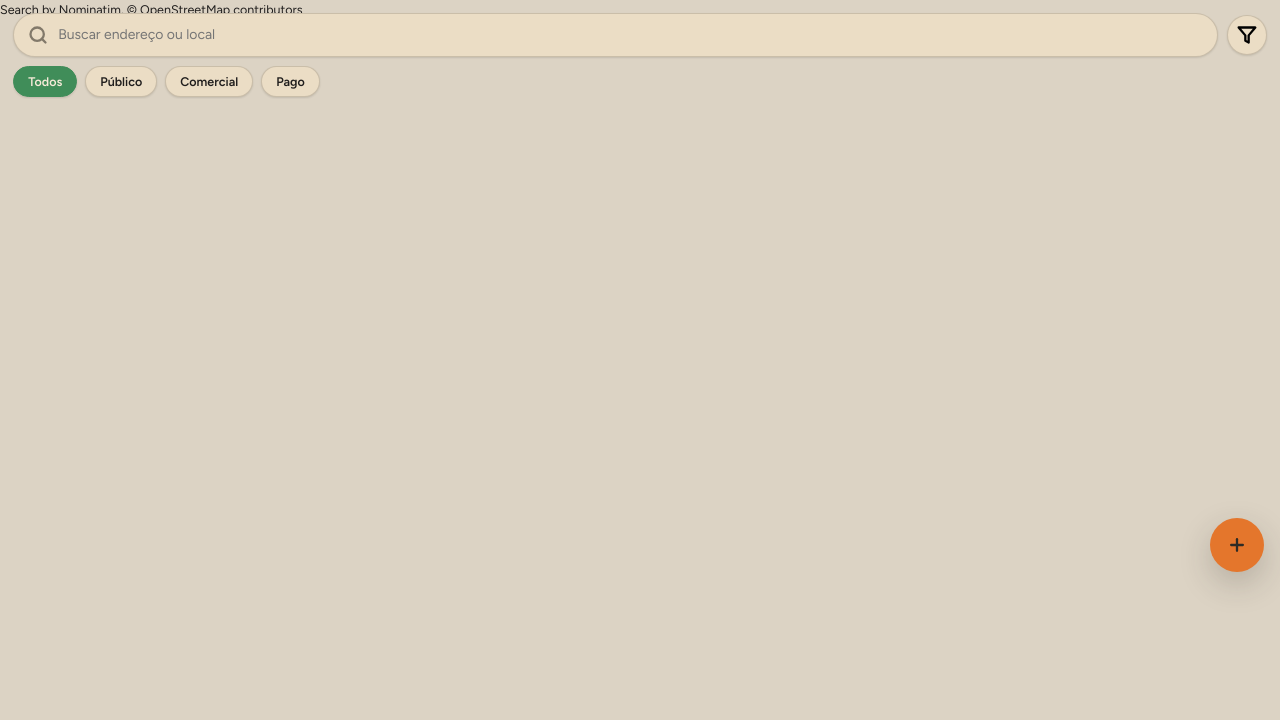
it: clicking the legend toggle shows the legend rows
expect the text "Banheiro público" is not shown: met
Click the button named "Legenda". click: [1247, 35]
box: top-left (1227, 15), bottom-right (1267, 55)
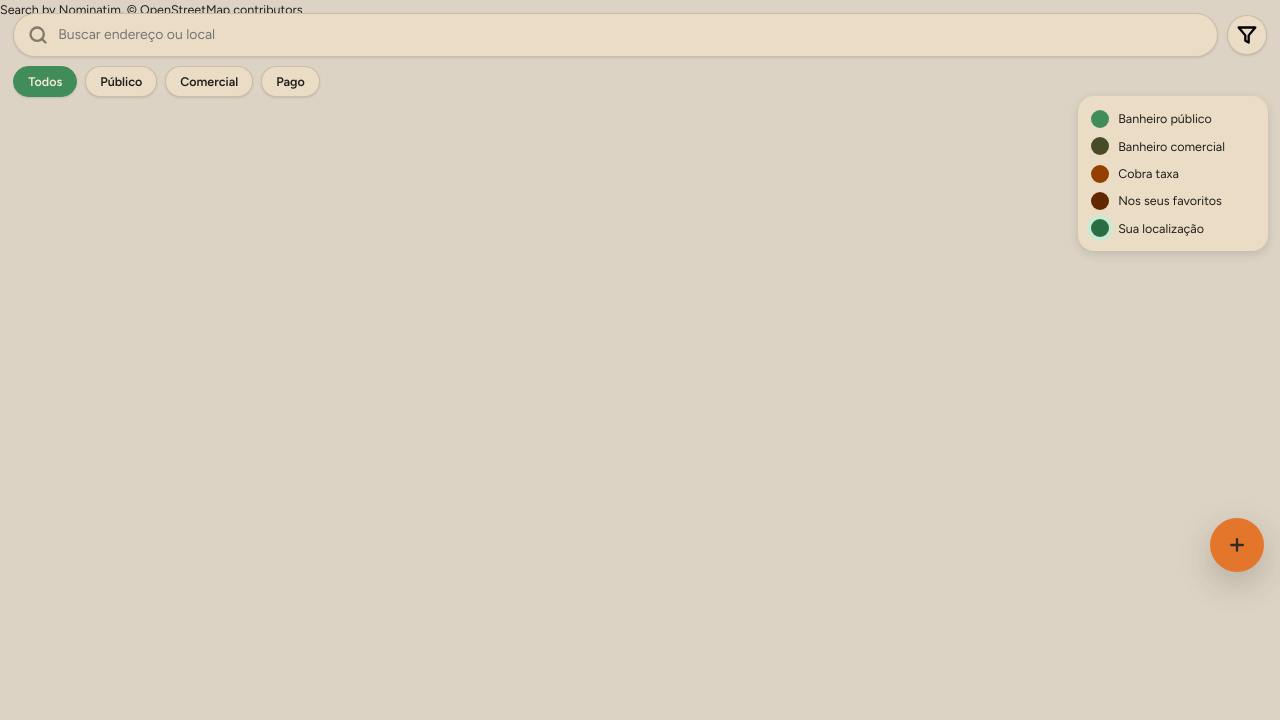
expect the text "Banheiro público" is shown: met, box top-left (1091, 110), bottom-right (1212, 128)
expect the text "Banheiro comercial" is shown: met, box top-left (1091, 137), bottom-right (1225, 155)
expect the text "Cobra taxa" is shown: met, box top-left (1091, 165), bottom-right (1179, 183)
